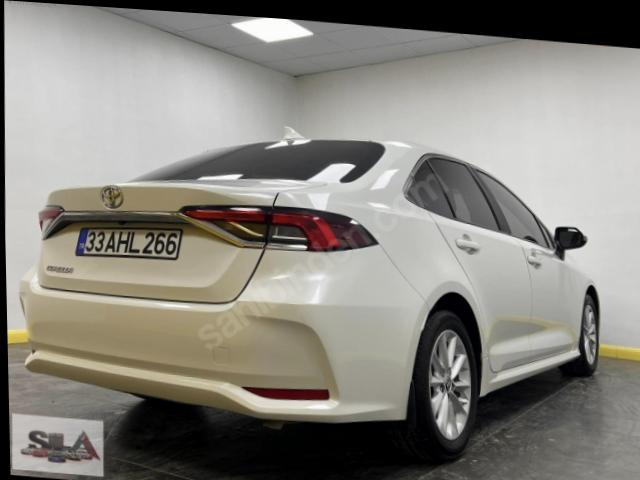plaka: (75, 227, 182, 260)
